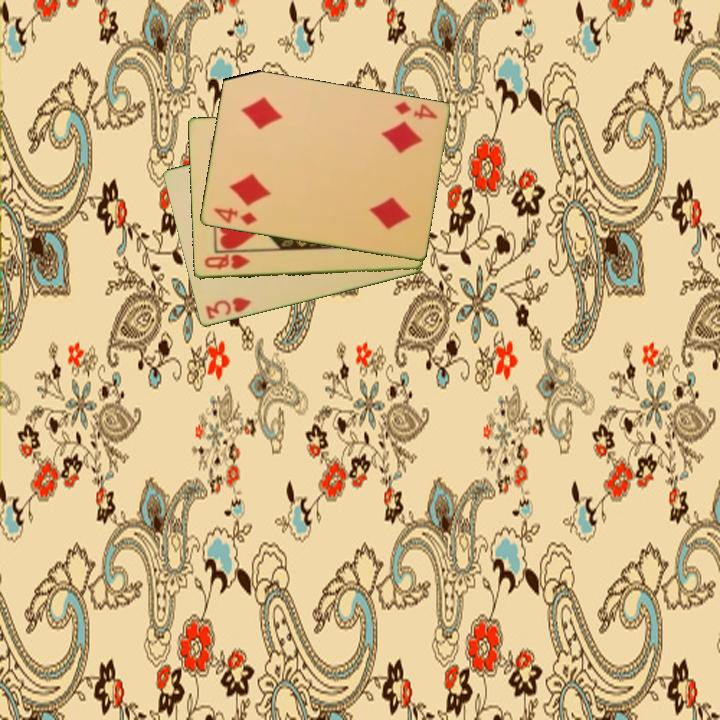3h: (202, 294, 254, 322)
4d: (391, 98, 440, 123), (209, 204, 259, 228)
Qh: (201, 251, 252, 273)
